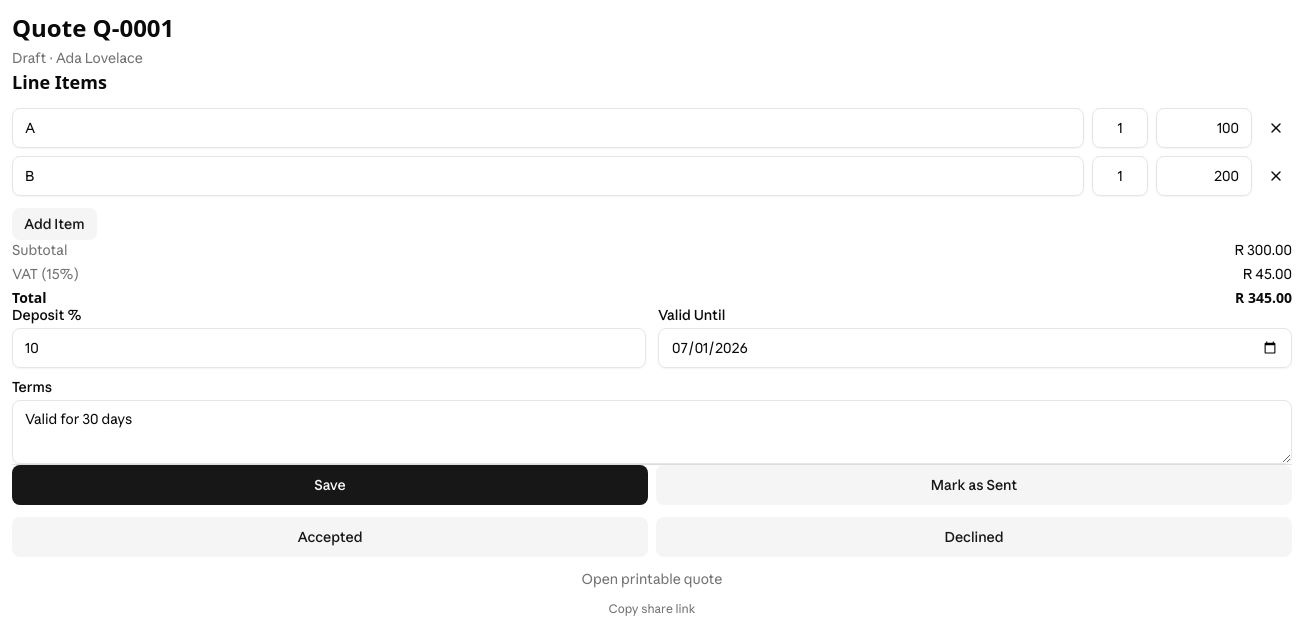
Test: QuoteEditorClient › removes a line item row
Expected: the number of fields with placeholder "Description" is 2, [12,108,1084,148]; [12,156,1084,196]
Click the 1st button named "remove item": [1276, 128] box [1260,112,1292,144]
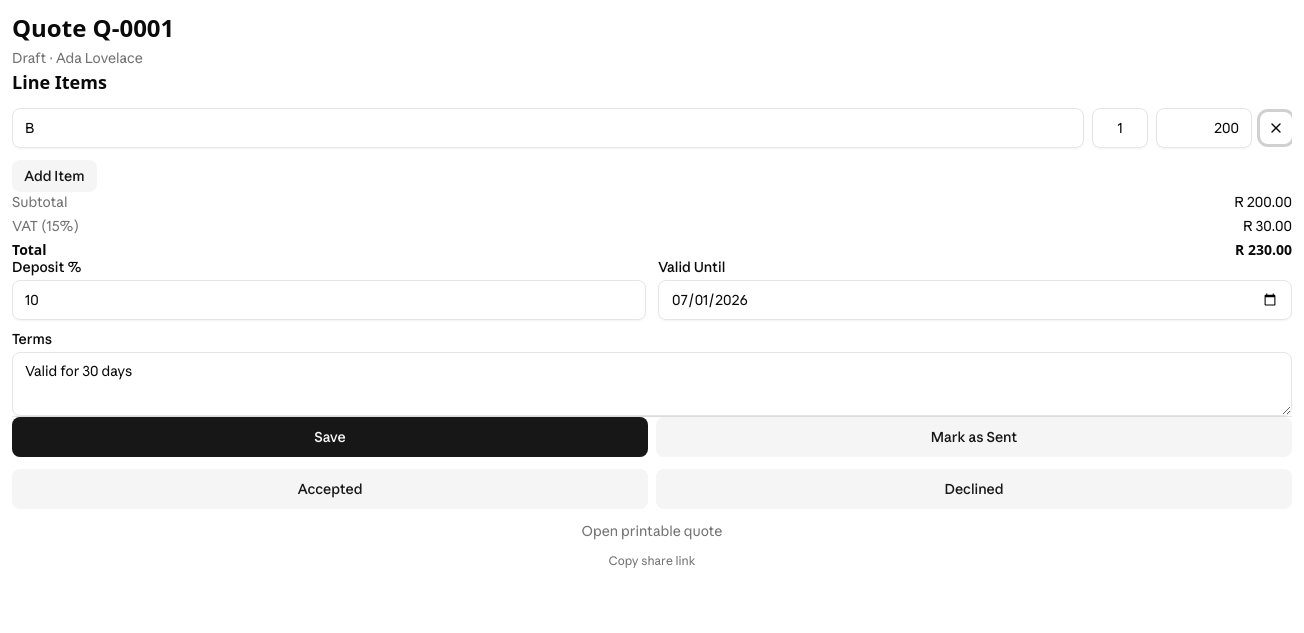
Expected: the number of fields with placeholder "Description" is 1, [12,108,1084,148]
